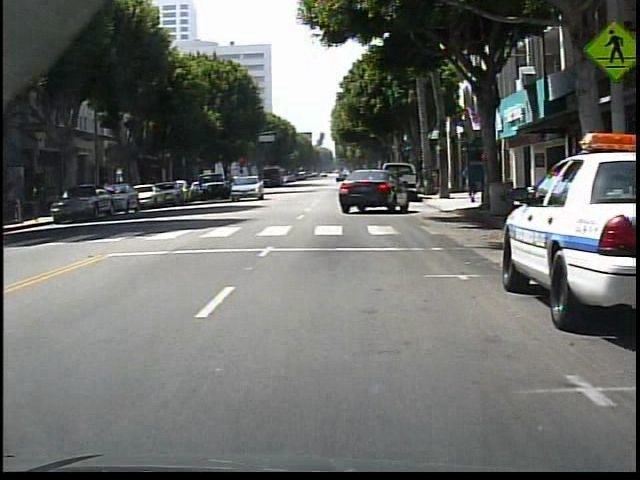person: (460, 160, 483, 209)
